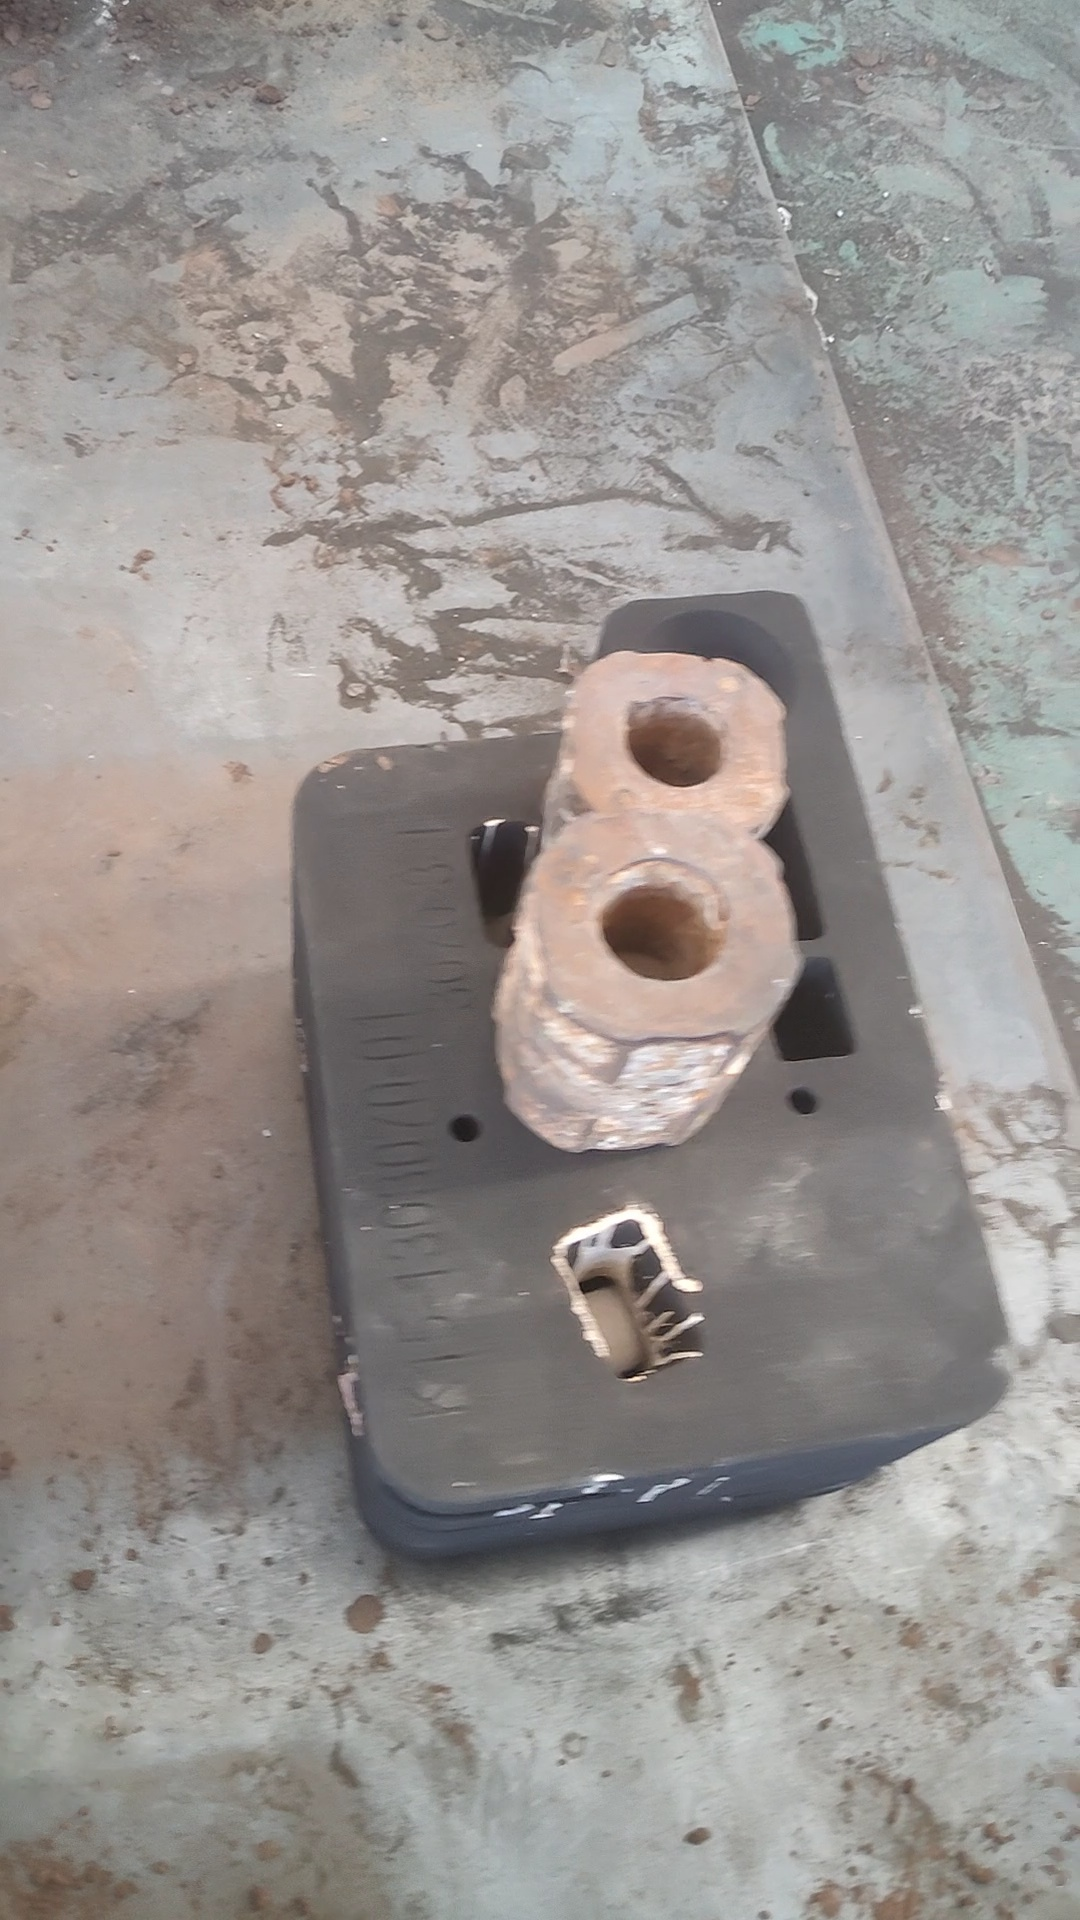pouring hole: (632, 607, 796, 733)
